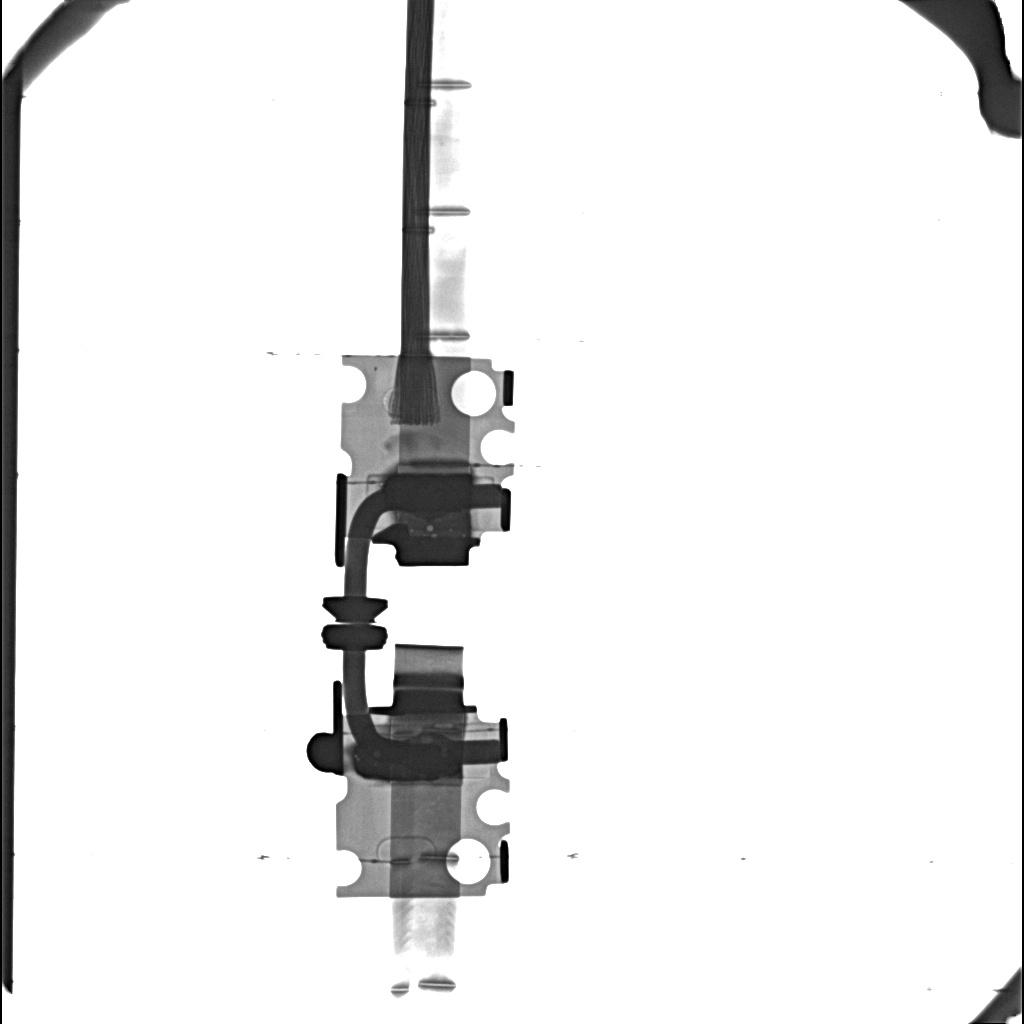气孔: (395, 462, 472, 473), (390, 782, 461, 786)
气泡: (426, 524, 434, 532)
水纹: (354, 734, 462, 780), (384, 475, 471, 511)
